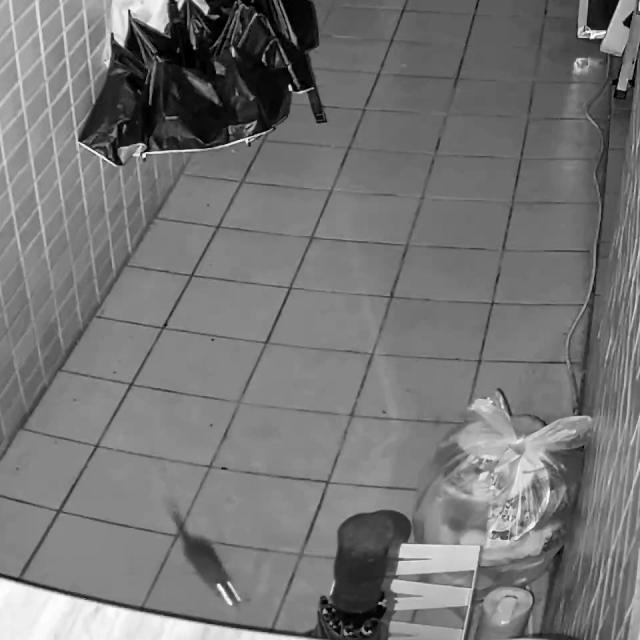rat: (165, 500, 243, 608)
